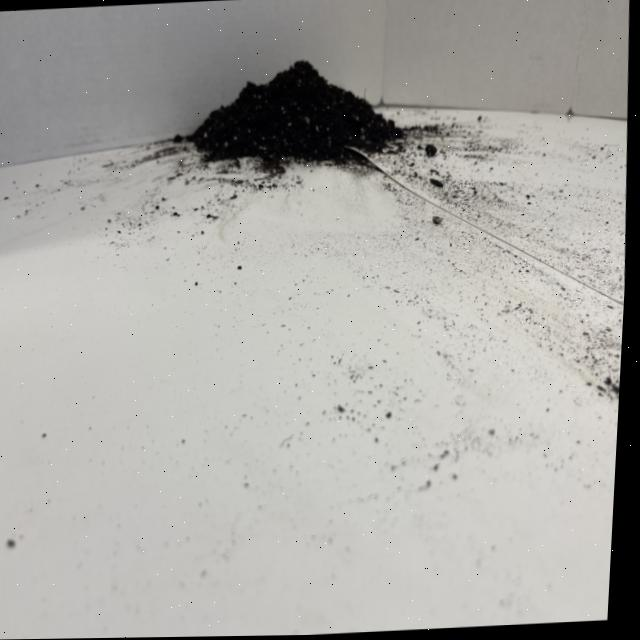soil: (172, 50, 410, 174)
